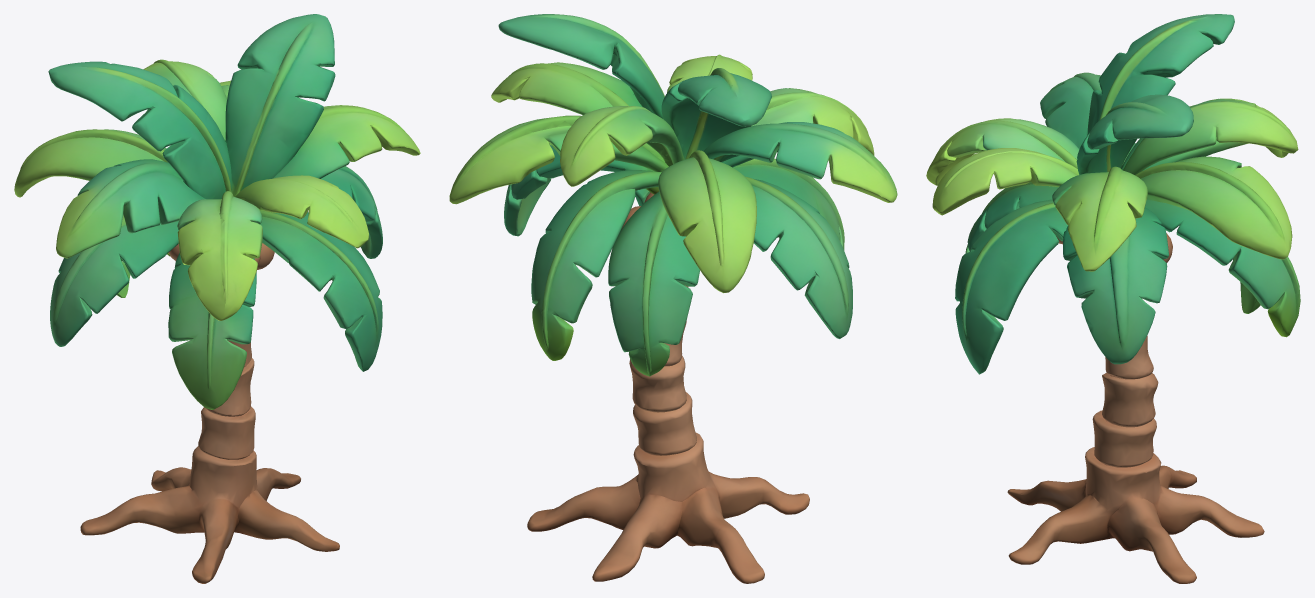
The model's file is palm-cartoon-source.glb.
3 views of the same model, side by side, from view 1: azimuth 30°, elevation 25°; view 2: azimuth 150°, elevation 25°; view 3: azimuth 270°, elevation 25° (orthographic). The views are drawn at different scales.
Visible parts, largest first — view 1: model; view 2: model; view 3: model.
Boxes of the visible parts, x1,y1,x2,y2 form: model: (14, 14, 420, 583); model: (449, 14, 897, 583); model: (926, 14, 1300, 583).
Size of the model in its own units: 1.57 by 1.9 by 1.36.
1 material, 1 textured.
